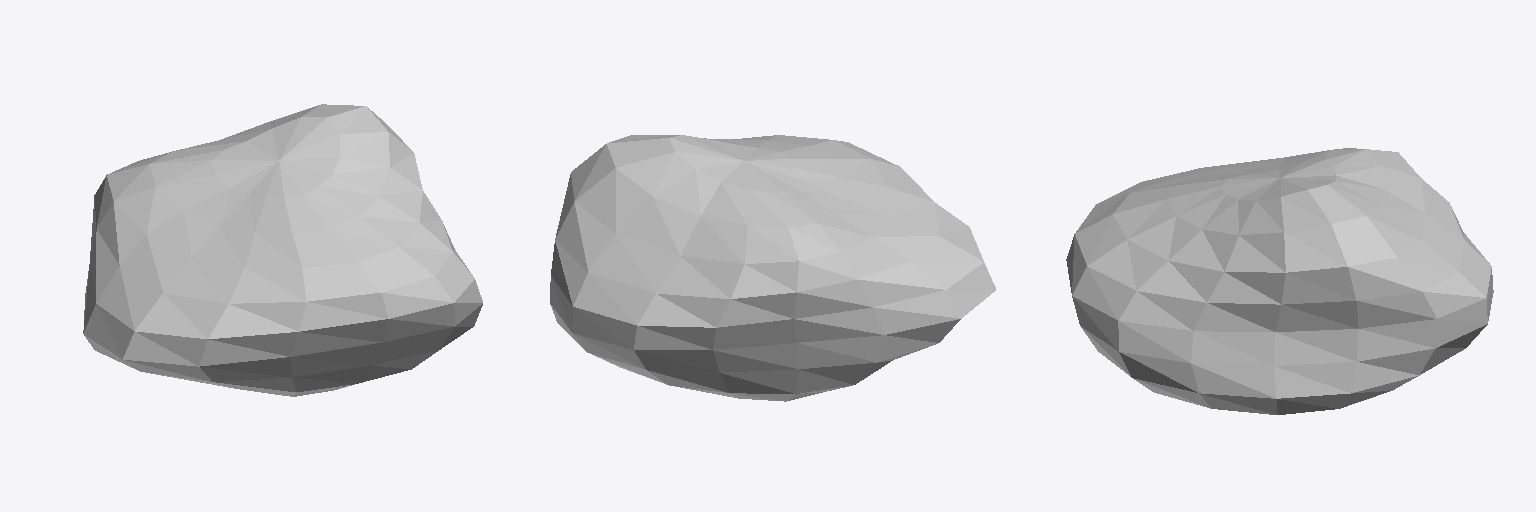
The model's file is rock5.Obj.
3 renders of one model, left to right at view 1: azimuth 30°, elevation 25°; view 2: azimuth 150°, elevation 25°; view 3: azimuth 270°, elevation 25°, orthographic.
Parts seen in each view (by area): view 1: default; view 2: default; view 3: default.
Part boxes in pixels (x1,y1,x2,y2): default: (83,104,482,396); default: (550,135,995,401); default: (1066,148,1493,414).
Bounding box in the file's own units: 1.01 × 0.5703 × 1.03.